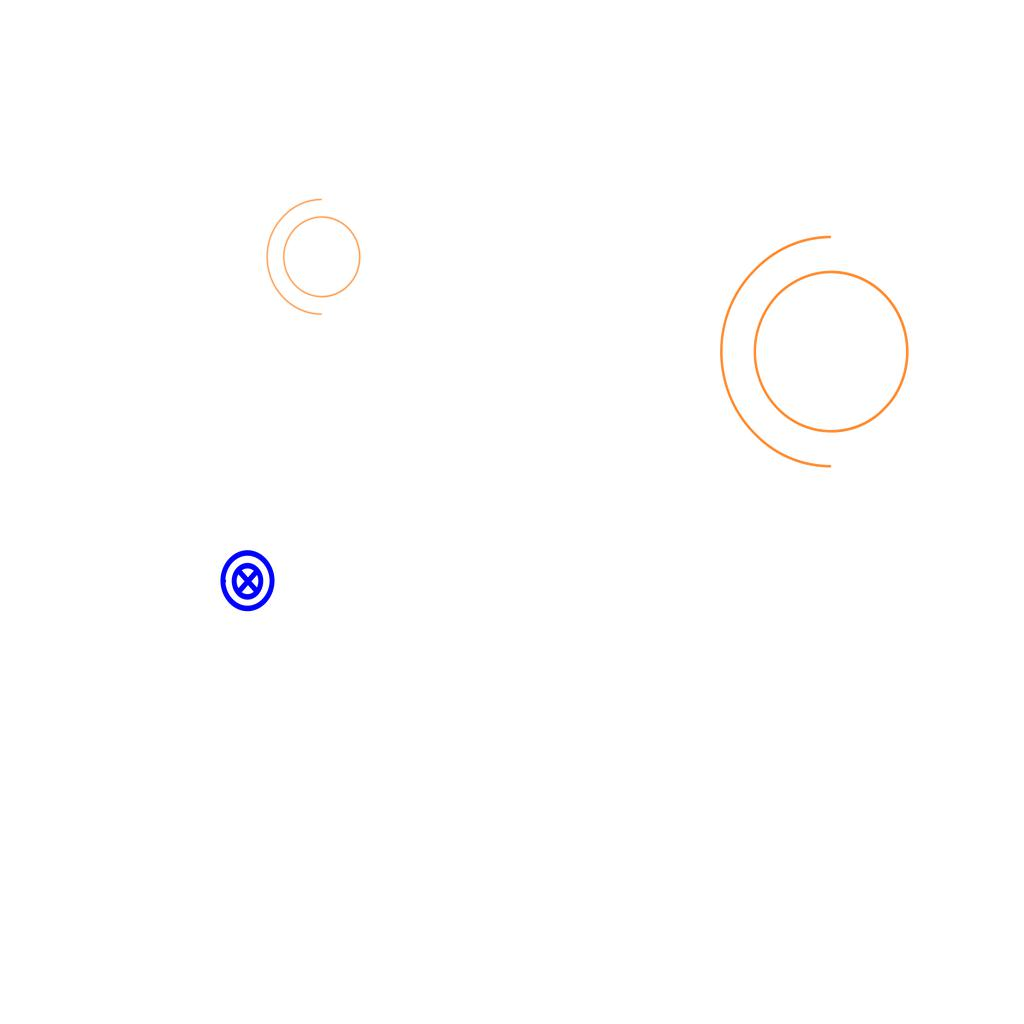Scheinwerfer_fuer_Alarmbeleuchtung: (709, 226, 934, 490), (261, 194, 373, 326)
Taster_beleuchtet: (215, 548, 281, 614)
